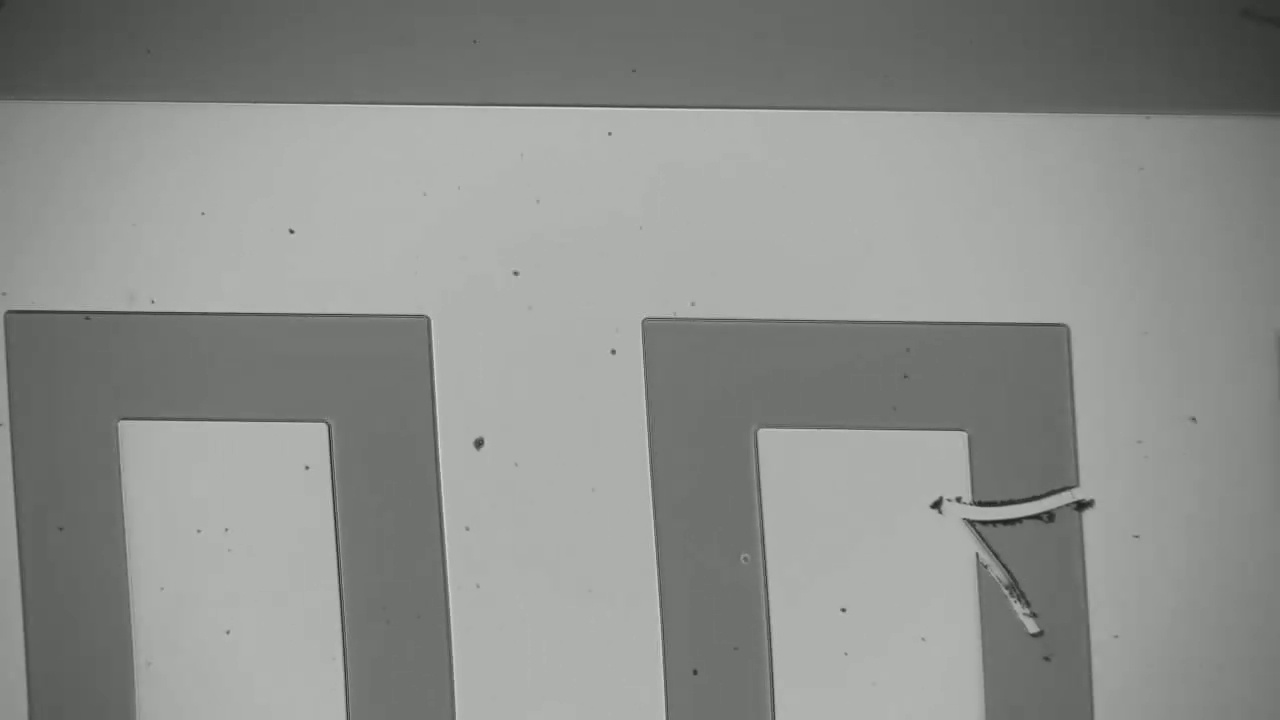Short_circuit: (929, 460, 1116, 547)
